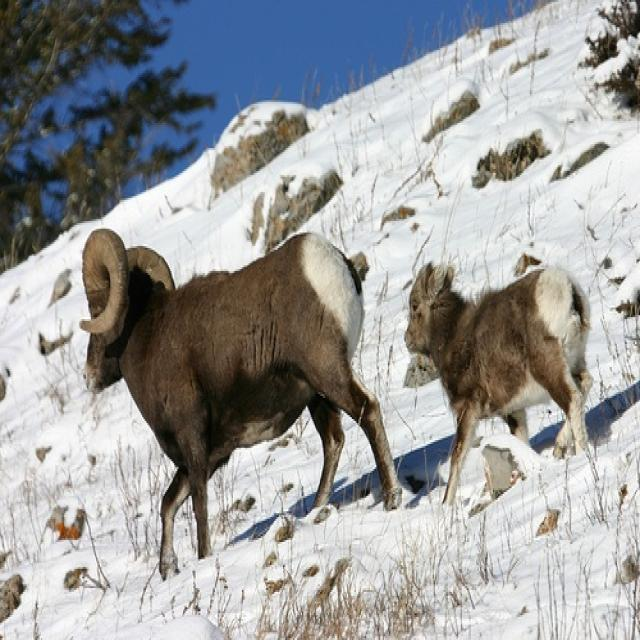sheep: (79, 228, 402, 581), (405, 259, 593, 509)
